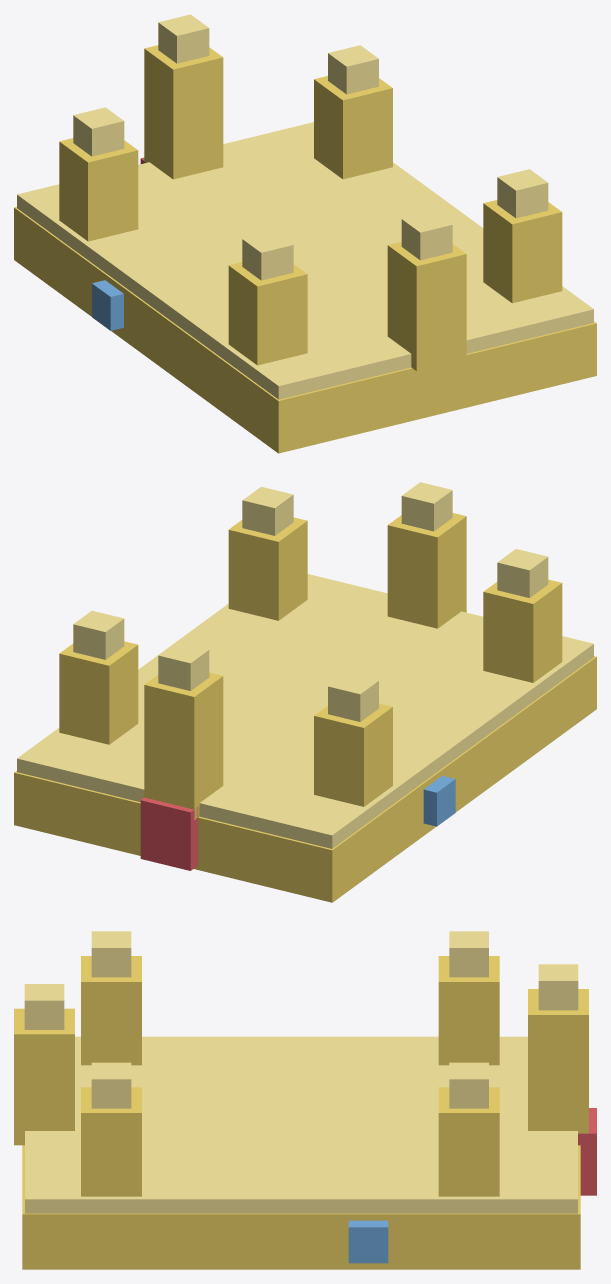
File: coroa.glb
The picture shows the model from 3 angles, top to bottom: view 1: azimuth 30°, elevation 25°; view 2: azimuth 150°, elevation 25°; view 3: azimuth 270°, elevation 25°; orthographic projection. The views are drawn at different scales.
Parts seen in each view (by area): view 1: Coroa; view 2: Coroa; view 3: Coroa.
Boxes of the visible parts, bbox=[...] form: Coroa: bbox=[14, 14, 596, 453]; Coroa: bbox=[14, 482, 596, 902]; Coroa: bbox=[14, 931, 596, 1269].
Size of the model in its own units: 0.585 by 0.33 by 0.8109.
